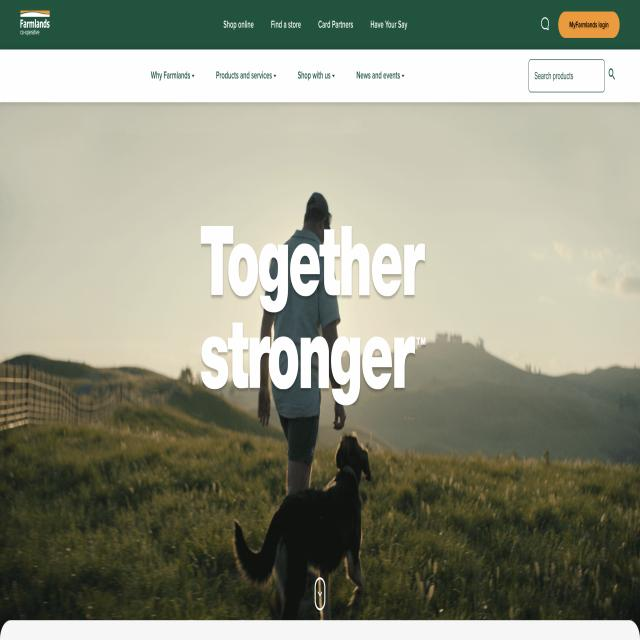Logo: (12, 0, 68, 43)
Navigation: (139, 58, 440, 88)
